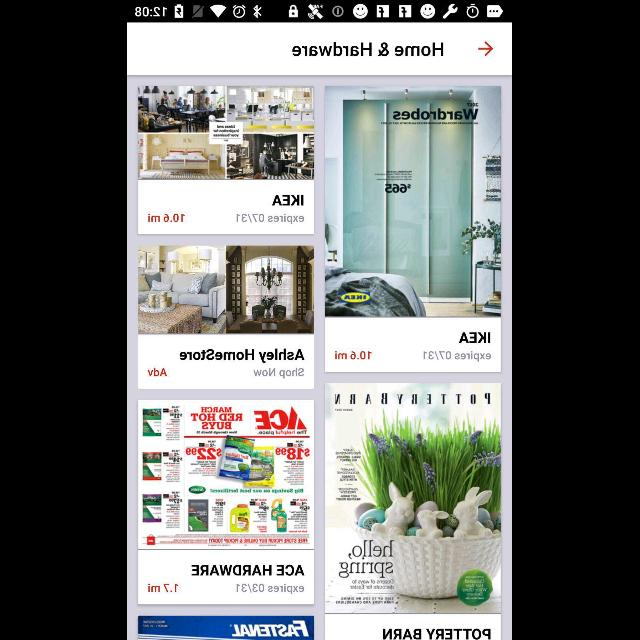icon: (478, 42, 494, 56)
image: (326, 86, 502, 318), (326, 383, 502, 614), (140, 400, 314, 550), (139, 88, 315, 180), (140, 246, 314, 334), (140, 616, 314, 640)
text: (292, 42, 444, 56), (180, 348, 306, 364), (192, 564, 306, 576), (384, 628, 492, 640), (237, 582, 305, 596), (424, 350, 492, 362), (237, 213, 305, 225), (254, 366, 306, 379), (272, 194, 304, 206), (148, 582, 180, 594), (459, 332, 491, 344), (148, 213, 186, 223), (336, 350, 372, 360), (148, 367, 168, 378)
toolbar: (128, 23, 512, 75)
uppertaskbar: (128, 1, 512, 23)
